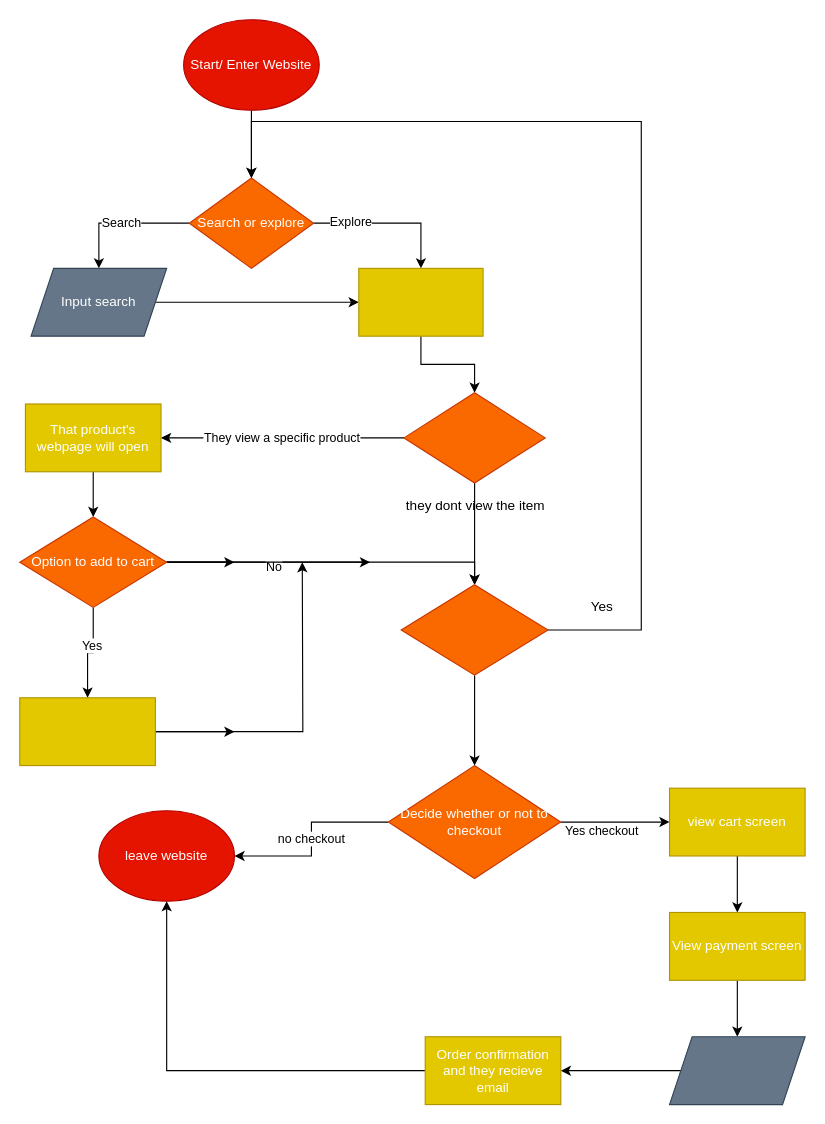
Image size: 825x1124. Some labels were removed from this diagram. The shapes that lost their labels are listed below. From the top down, each one's box as (x1, y1, x2, y2) in pixels, then its label:
(358, 267, 483, 336): User looks over products
(403, 392, 545, 483): View specific product
(400, 584, 548, 675): Decide whether to continue shopping
(19, 697, 155, 766): Added to cart ocnfirmation
(668, 1036, 805, 1105): They input their payment info
